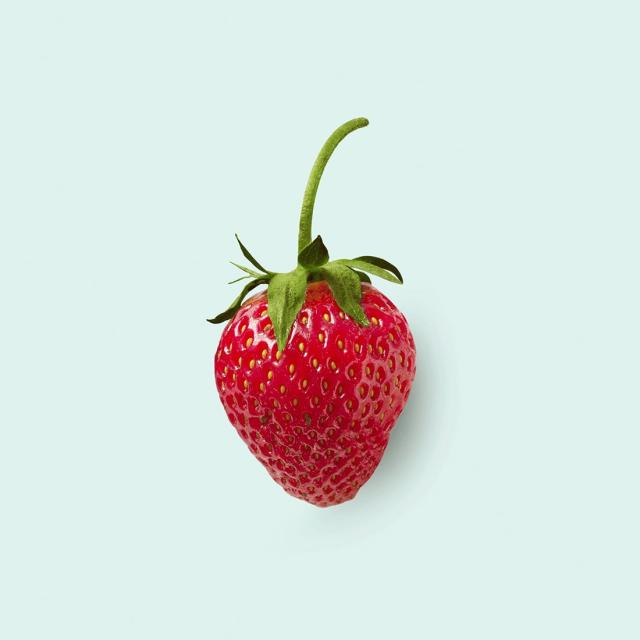strawberry: (142, 55, 462, 522)
